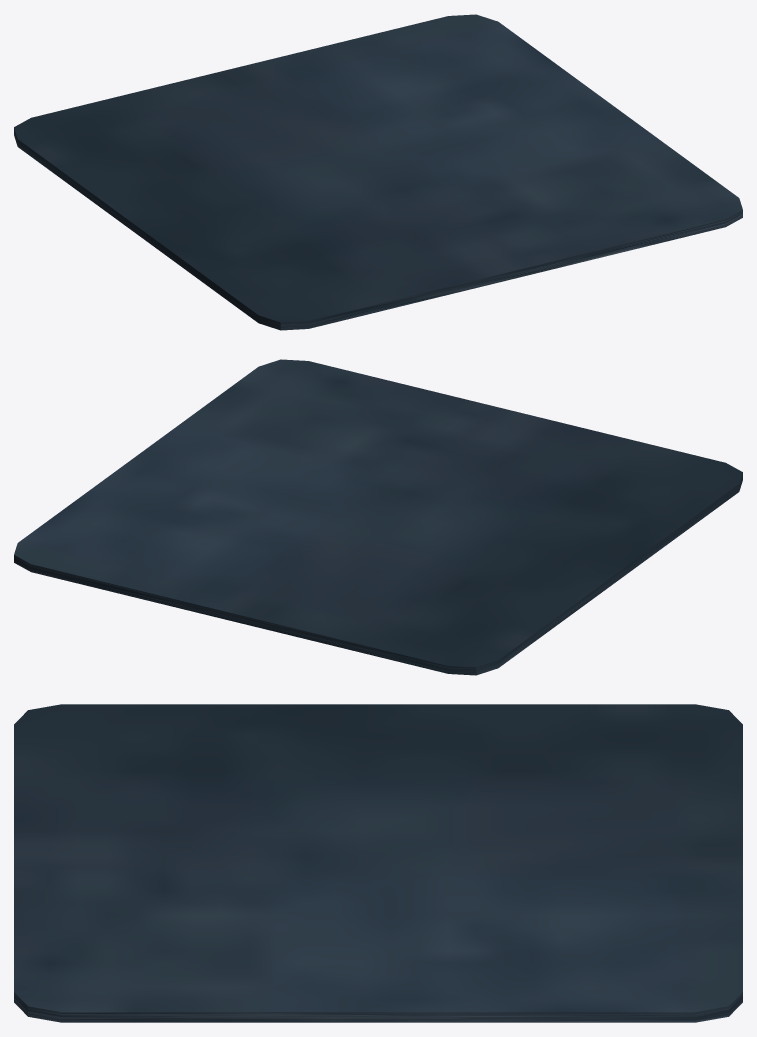
File: Mousepad.glb
The picture shows the model from 3 angles, top to bottom: view 1: azimuth 30°, elevation 25°; view 2: azimuth 150°, elevation 25°; view 3: azimuth 270°, elevation 25°; orthographic projection. The views are drawn at different scales.
Visible parts, largest first — view 1: MoosPad; view 2: MoosPad; view 3: MoosPad.
Part boxes in pixels (left/top/right/bottom): MoosPad: left=14, top=14, right=742, bottom=330; MoosPad: left=14, top=359, right=742, bottom=675; MoosPad: left=14, top=704, right=742, bottom=1022.
Size of the model in its own units: 0.4759 by 0.00755 by 0.4759.
Materials: 1 (1 with a texture image).
